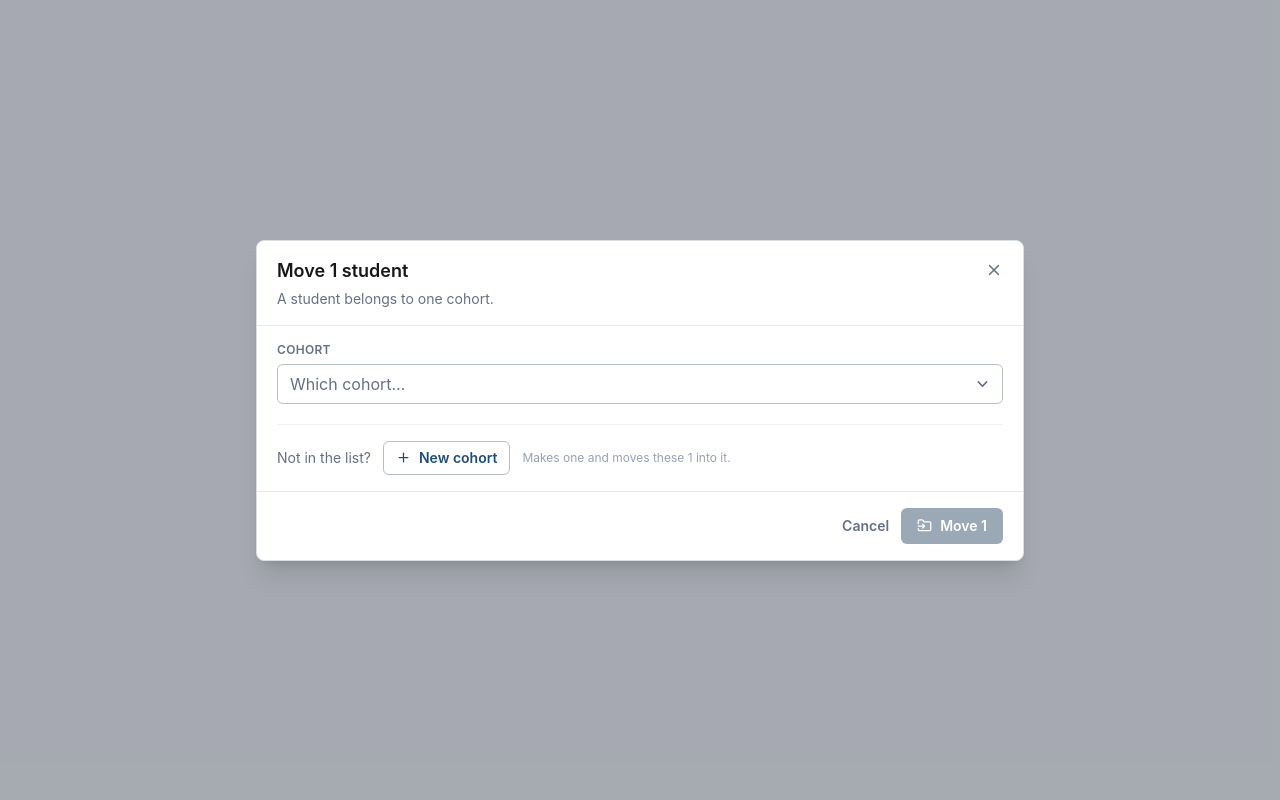
Test: moving students to another cohort › offers cohorts and nothing else
The width and height of the screenshot is (1280, 800).
Click the dropdown named "Move to cohort" at (348, 384), box [277,364,1003,404]
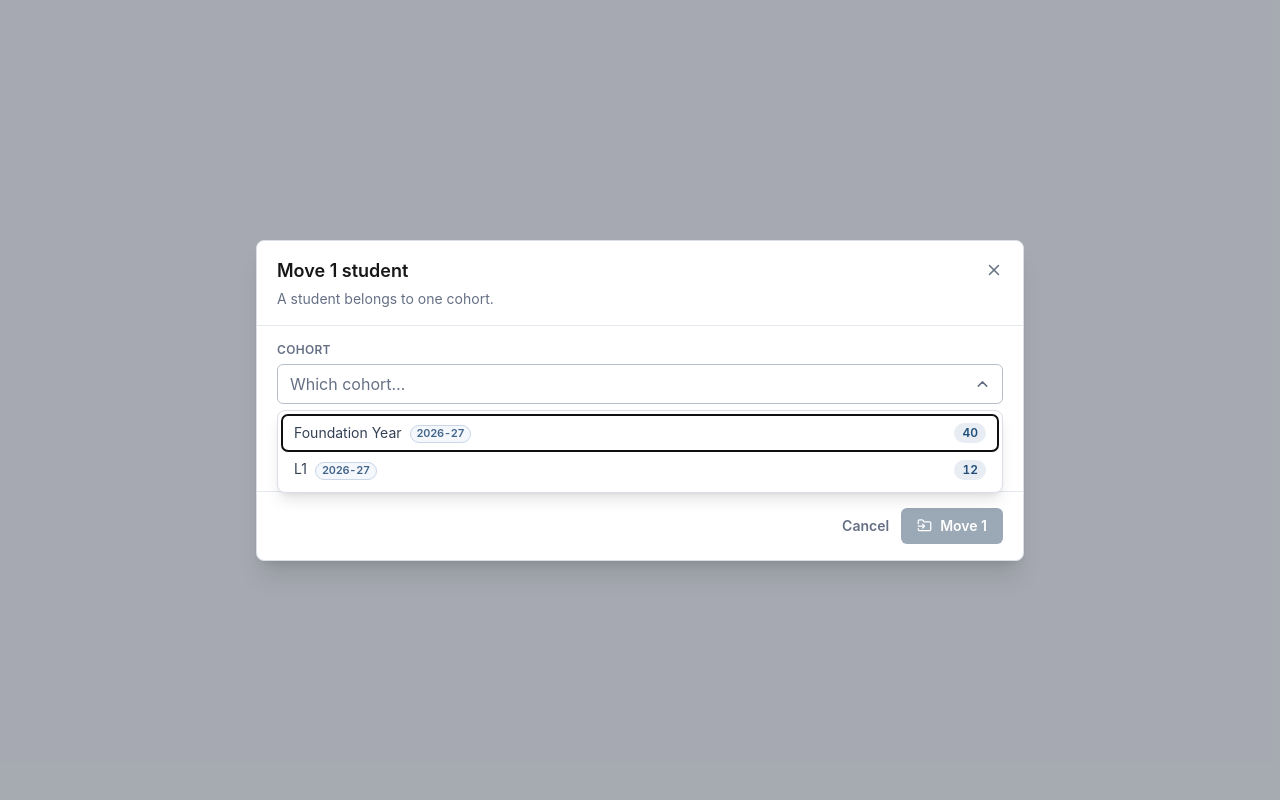
Expected: the option "Foundation Year 2026-27 40" is shown, [282,415,998,451]
